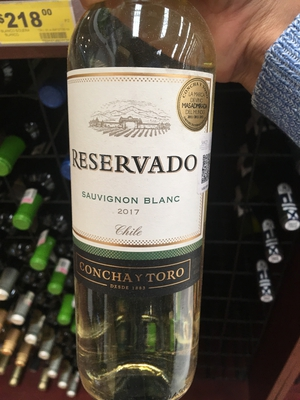reservado sauvignon blanc: (69, 15, 214, 399)
